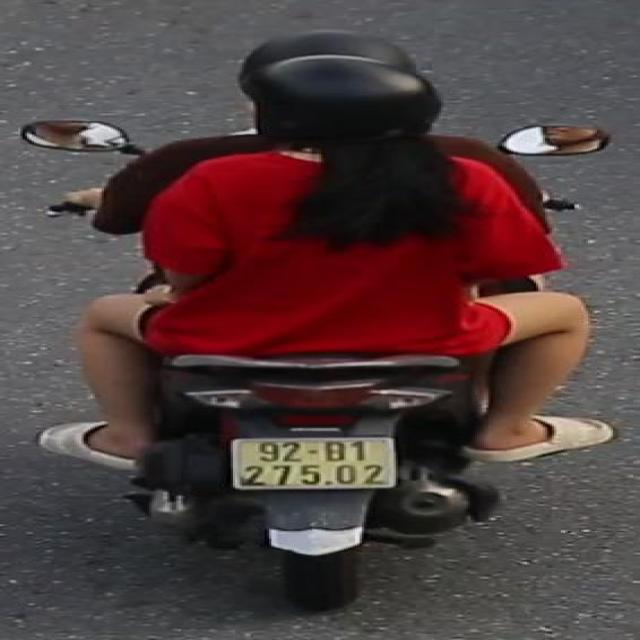LP: (227, 433, 408, 497)
helmet: (230, 54, 451, 156), (238, 25, 434, 77)
